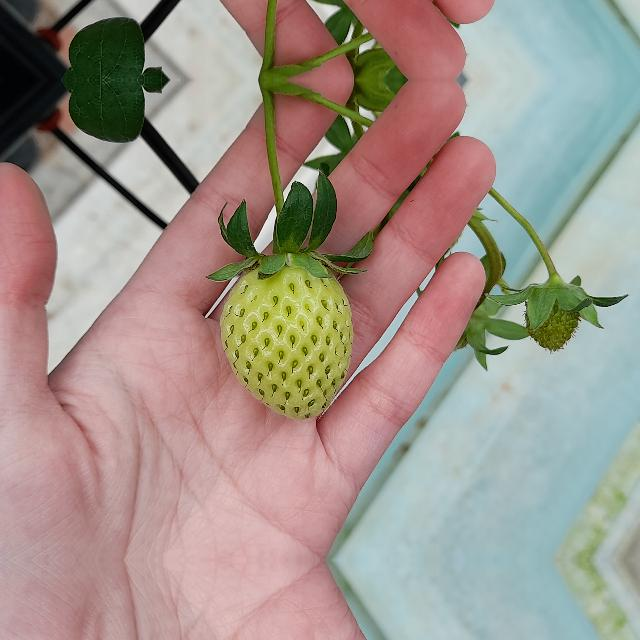Health_25: (219, 264, 353, 418), (520, 286, 580, 354)
